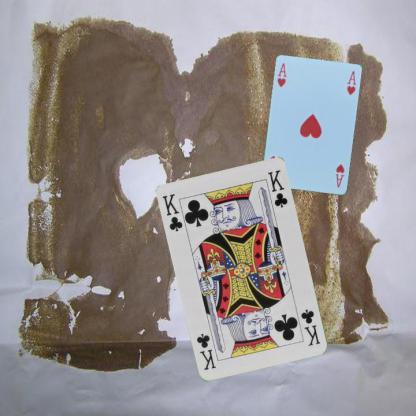Ah: (332, 161, 346, 189), (275, 61, 288, 88)
Kc: (160, 191, 184, 233), (298, 307, 322, 348)
